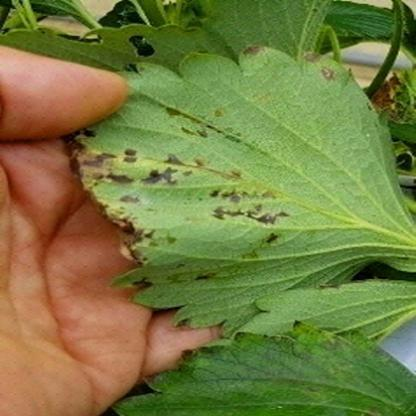Strawberry_Angular_LeafSpot: (67, 95, 301, 300)
